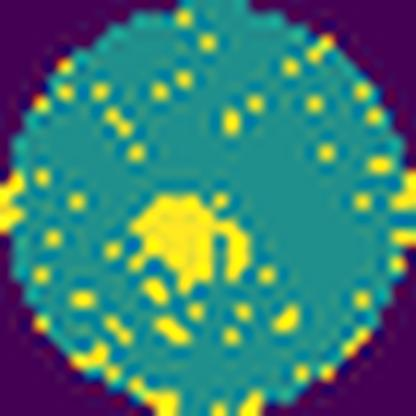Center: (125, 196, 251, 293)
